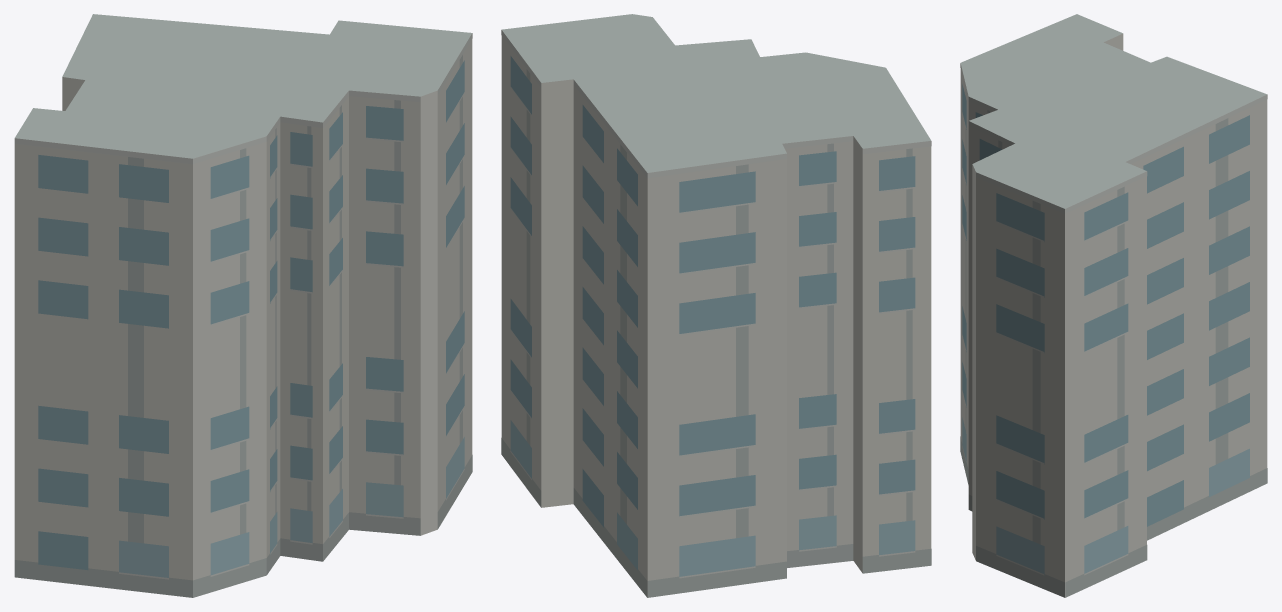
The model's file is survey-upis-32906182.glb.
3 renders of one model, left to right at view 1: azimuth 30°, elevation 25°; view 2: azimuth 150°, elevation 25°; view 3: azimuth 270°, elevation 25°, orthographic. The views are drawn at different scales.
Parts seen in each view (by area): view 1: survey-upis-32906182.tmp; view 2: survey-upis-32906182.tmp; view 3: survey-upis-32906182.tmp.
Boxes of the visible parts, x1=… form: survey-upis-32906182.tmp: x1=14, y1=14, x2=472, y2=597; survey-upis-32906182.tmp: x1=501, y1=14, x2=931, y2=597; survey-upis-32906182.tmp: x1=960, y1=14, x2=1267, y2=597.
Size of the model in its own units: 20.41 by 18.98 by 13.58.
